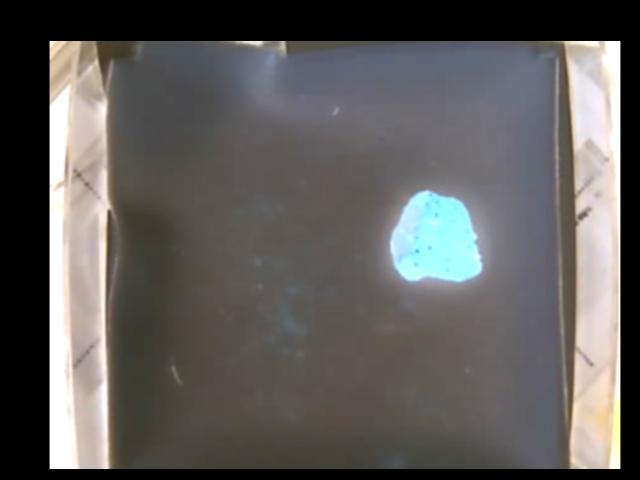Brisk: (392, 189, 481, 283)
